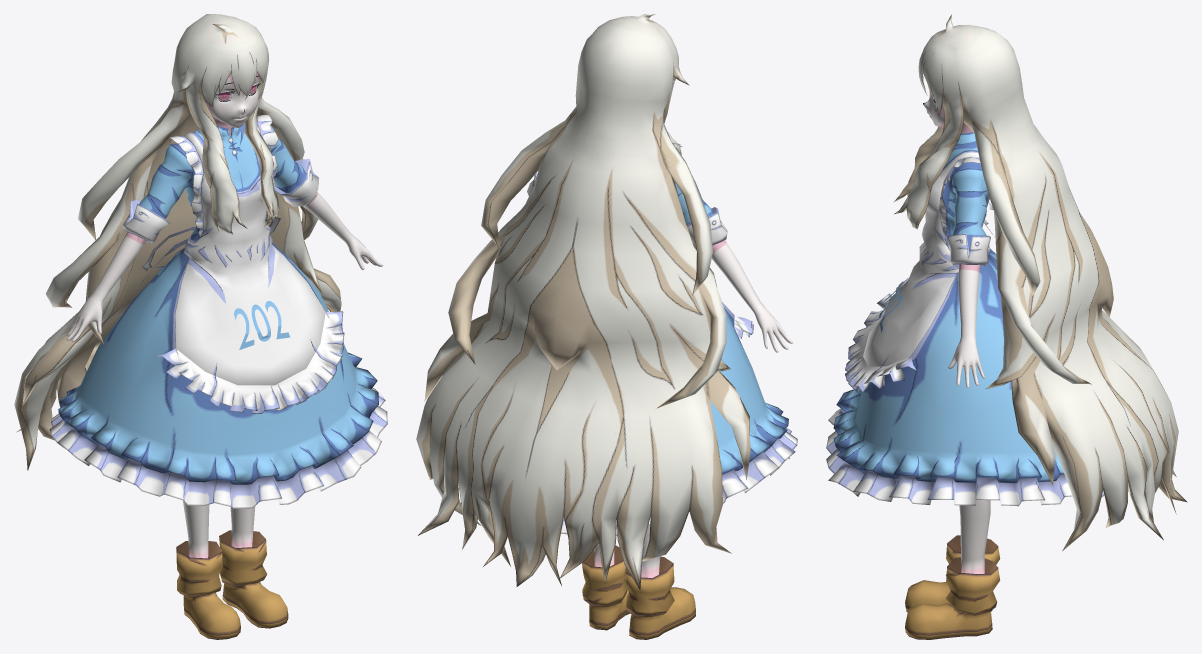
The model's file is Marry.gltf.
3 renders of one model, left to right at view 1: azimuth 30°, elevation 25°; view 2: azimuth 150°, elevation 25°; view 3: azimuth 270°, elevation 25°, orthographic. The views are drawn at different scales.
Parts seen in each view (by area): view 1: Body_MC003_Kozakura_Mari_face, 文本; view 2: Body_MC003_Kozakura_Mari_face; view 3: Body_MC003_Kozakura_Mari_face.
Boxes of the visible parts, bbox=[...] form: Body_MC003_Kozakura_Mari_face: bbox=[14, 14, 387, 639]; 文本: bbox=[234, 301, 290, 349]; Body_MC003_Kozakura_Mari_face: bbox=[416, 14, 797, 639]; Body_MC003_Kozakura_Mari_face: bbox=[826, 14, 1187, 639].
Size of the model in its own units: 1.89 by 3.41 by 1.87.
Materials: 2 (1 with a texture image).
